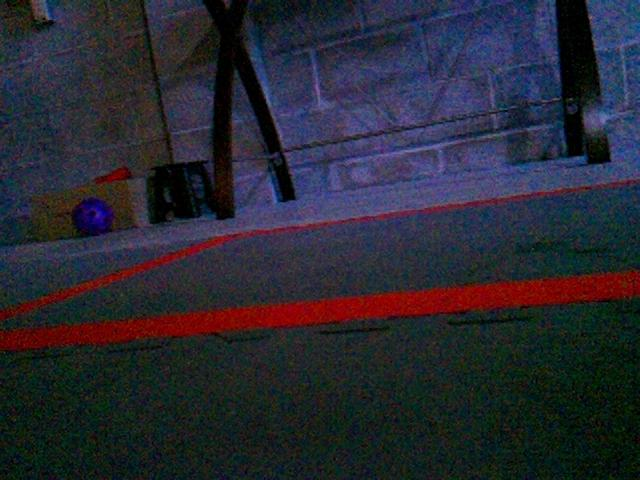Purple: (69, 196, 116, 238)
